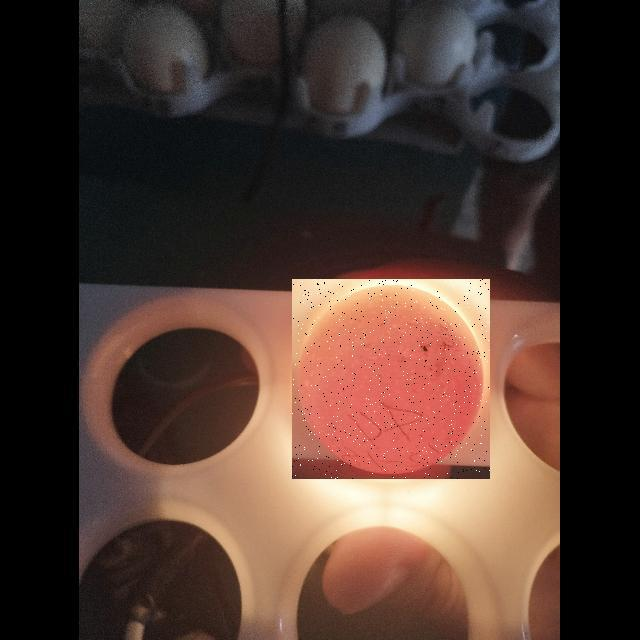Infertile: (292, 279, 490, 479)
